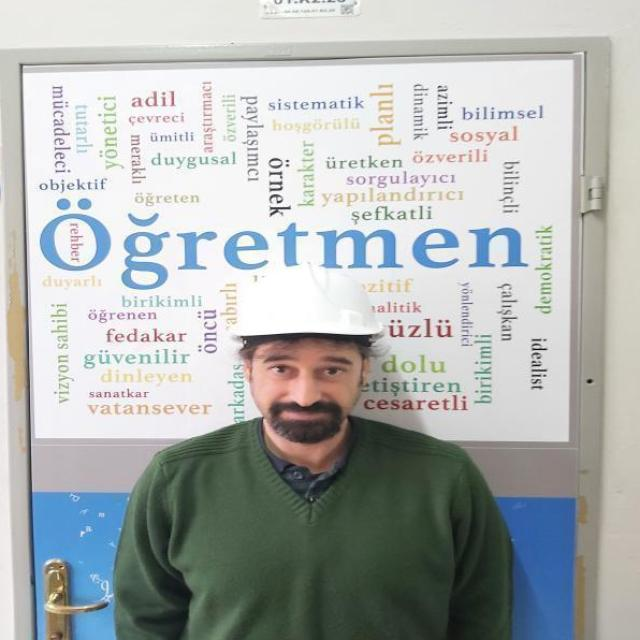helmet: (230, 261, 384, 341)
